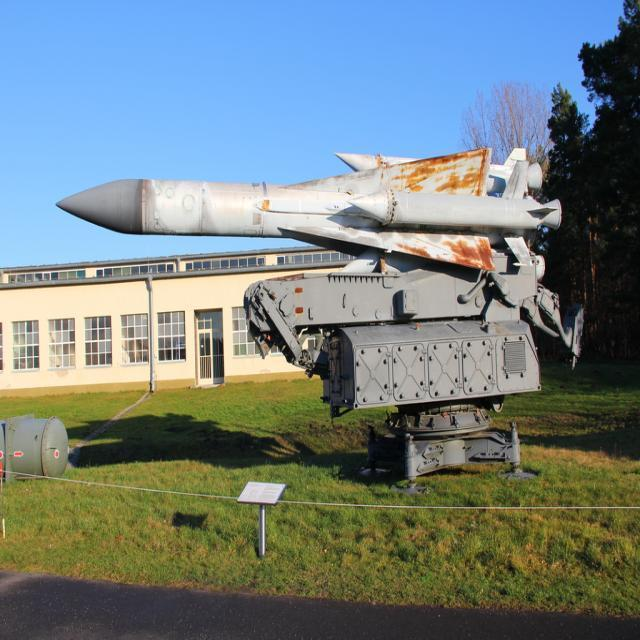missile: (60, 171, 592, 255), (350, 178, 564, 231)
